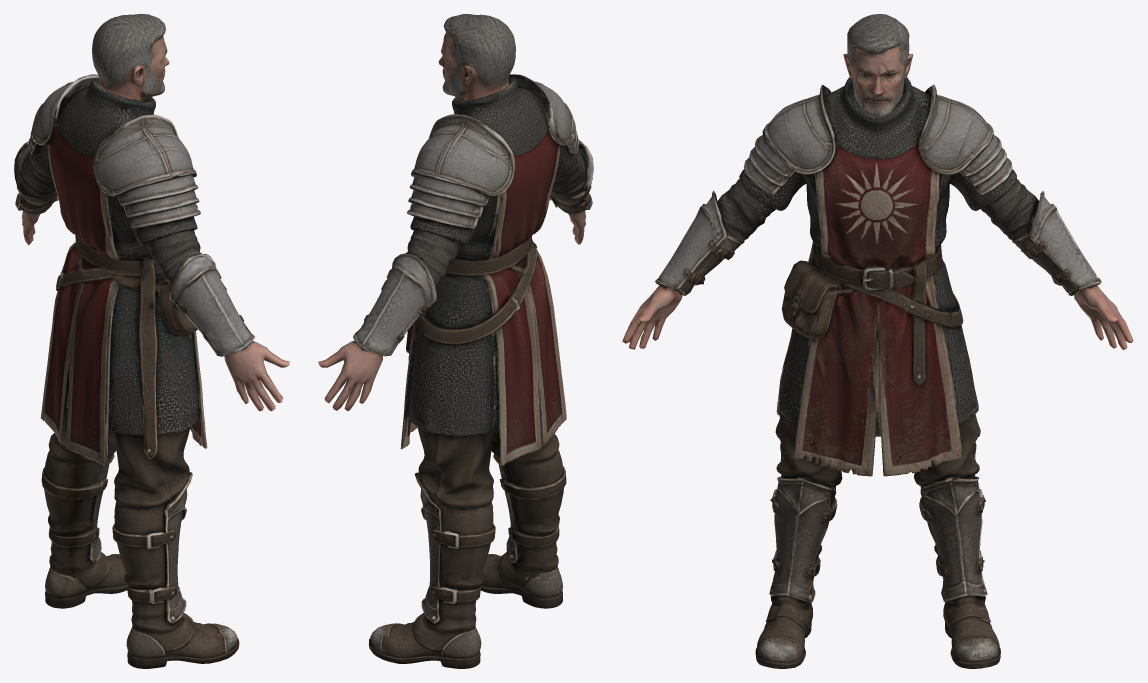
Rendered from aydor_2_tripo.glb.
3 views of the same model, side by side, from view 1: azimuth 30°, elevation 25°; view 2: azimuth 150°, elevation 25°; view 3: azimuth 270°, elevation 25° (orthographic). The views are drawn at different scales.
Parts seen in each view (by area): view 1: tripo_node_2dc82c33-e2ba-456c-9d2b-923d442c9b94; view 2: tripo_node_2dc82c33-e2ba-456c-9d2b-923d442c9b94; view 3: tripo_node_2dc82c33-e2ba-456c-9d2b-923d442c9b94.
Boxes of the visible parts, x1,y1,x2,y2 form: tripo_node_2dc82c33-e2ba-456c-9d2b-923d442c9b94: (14, 14, 289, 668); tripo_node_2dc82c33-e2ba-456c-9d2b-923d442c9b94: (318, 14, 593, 668); tripo_node_2dc82c33-e2ba-456c-9d2b-923d442c9b94: (622, 14, 1133, 668).
Bounding box in the file's own units: 0.3943 × 1.85 × 1.37.
1 material, 1 textured.
